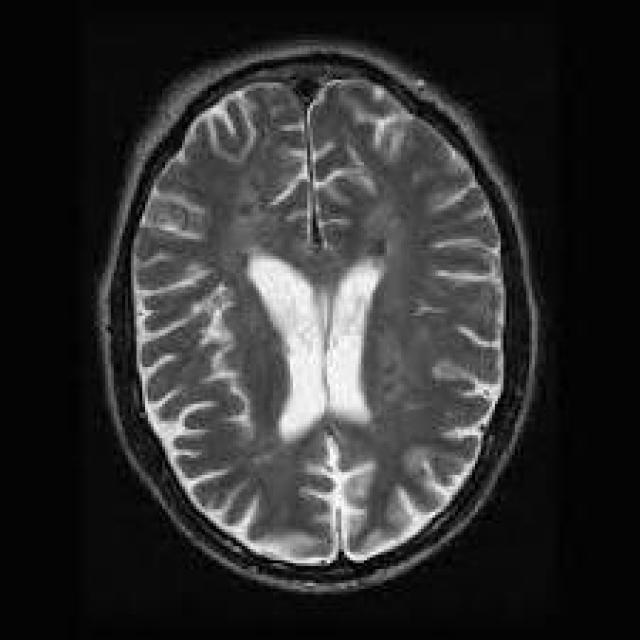notumor: (97, 40, 540, 600)
